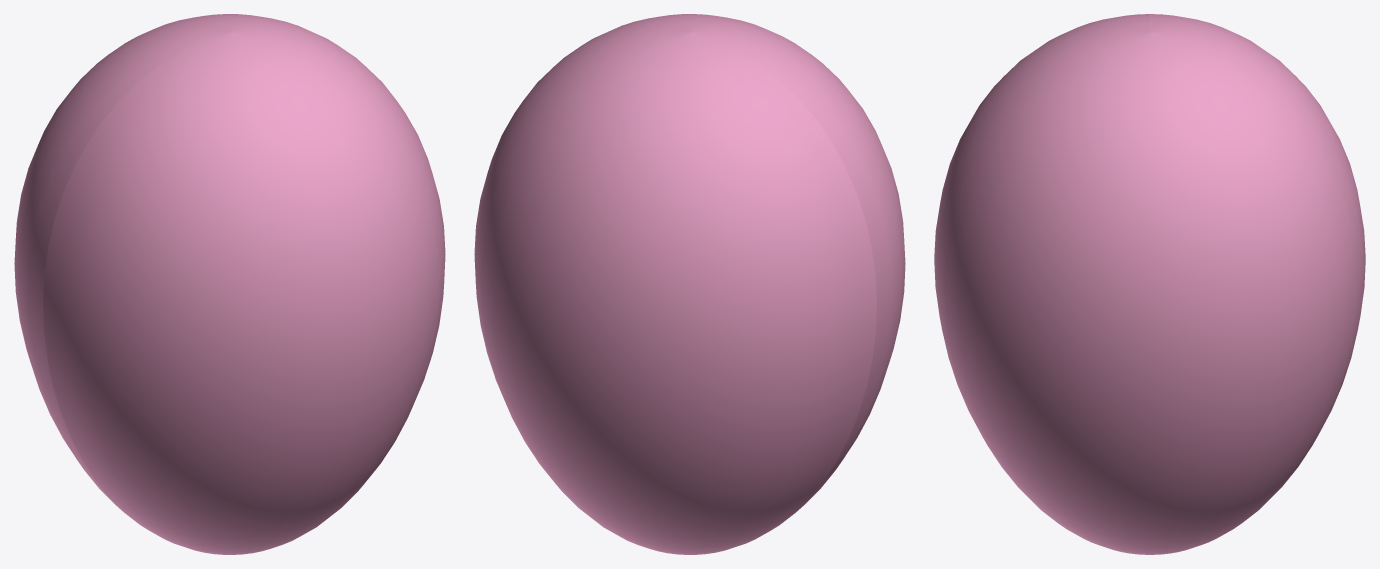
File: balloon.glb
3 views of the same model, side by side, from view 1: azimuth 30°, elevation 25°; view 2: azimuth 150°, elevation 25°; view 3: azimuth 270°, elevation 25° (orthographic).
Visible parts, largest first — view 1: Latex_balloon; view 2: Latex_balloon; view 3: Latex_balloon.
Part boxes in pixels (bbox=[...]): Latex_balloon: bbox=[14, 14, 445, 554]; Latex_balloon: bbox=[474, 14, 905, 554]; Latex_balloon: bbox=[934, 14, 1365, 554].
Size of the model in its own units: 1.81 by 2.36 by 1.81.
